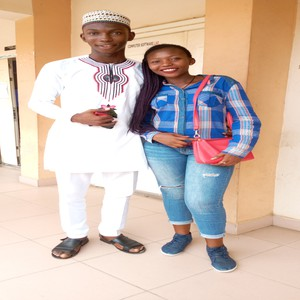Fulokoja_female_student: (142, 44, 234, 252)
Fulokoja_male_student: (65, 19, 144, 250)
